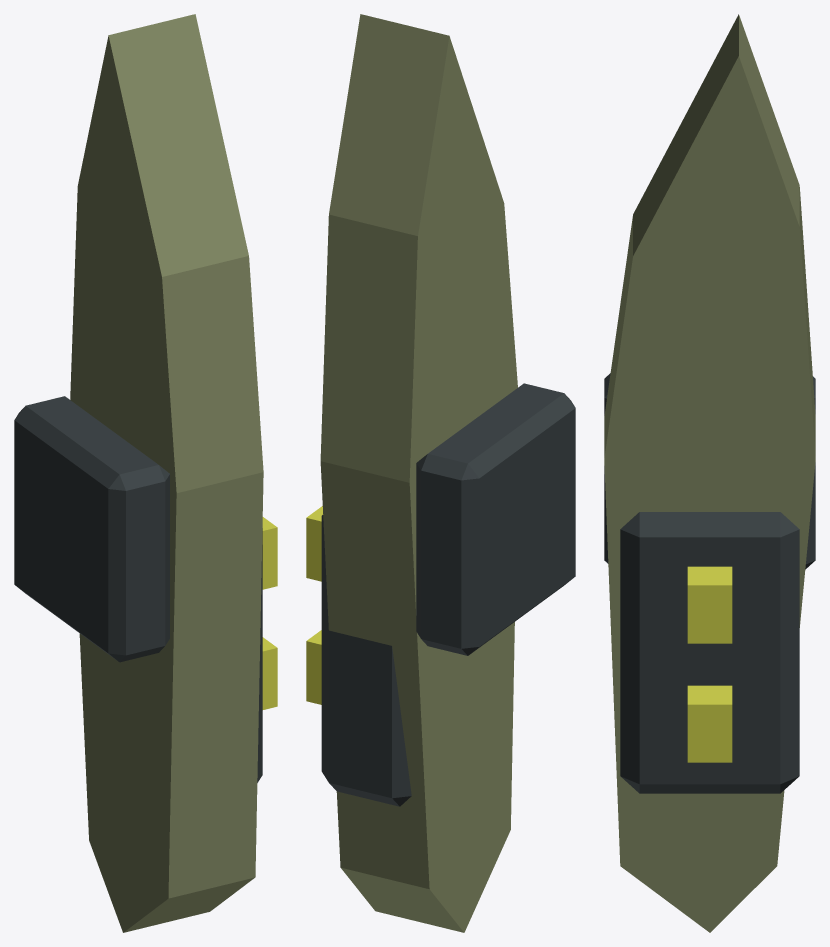
File: person_tool_insanity.obj
The picture shows the model from 3 angles, left to right: view 1: azimuth 30°, elevation 25°; view 2: azimuth 150°, elevation 25°; view 3: azimuth 270°, elevation 25°; orthographic projection. The views are drawn at different scales.
Visible parts, largest first — view 1: person_tool_insanity; view 2: person_tool_insanity; view 3: person_tool_insanity.
Part boxes in pixels (<box>): person_tool_insanity: <box>14,14,277,932</box>; person_tool_insanity: <box>306,14,575,932</box>; person_tool_insanity: <box>604,14,815,932</box>.
Bounding box in the file's own units: 0.073 × 0.302 × 0.066.
